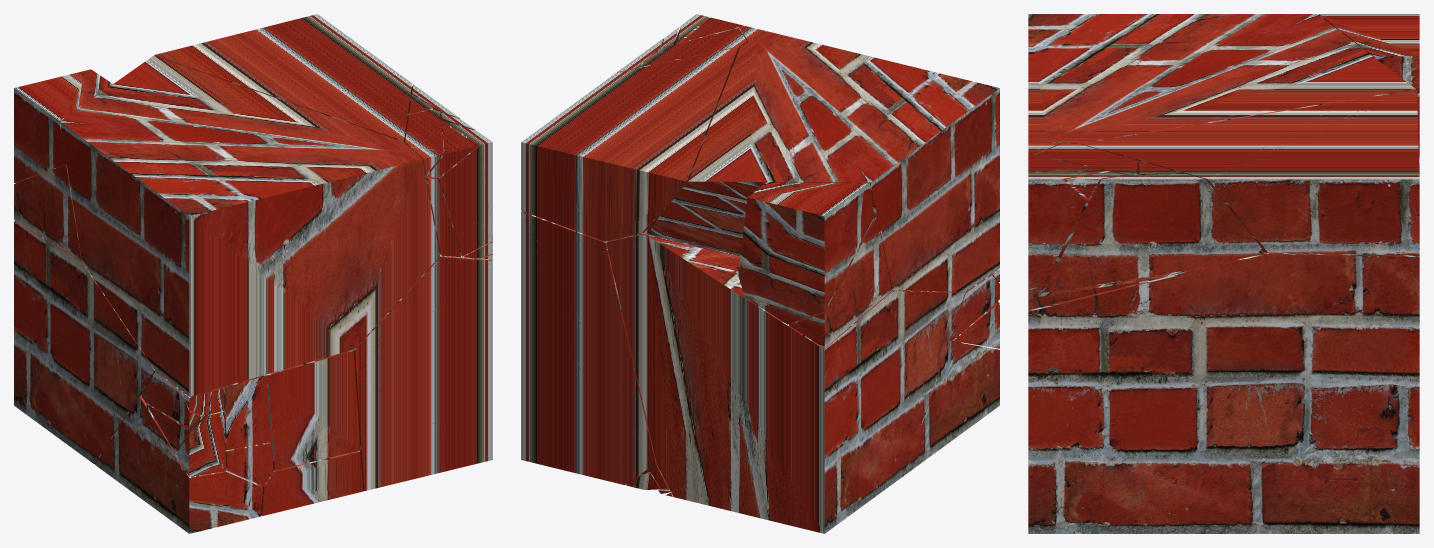
Rendered from Wall Cracked.fbx.
3 views of the same model, side by side, from view 1: azimuth 30°, elevation 25°; view 2: azimuth 150°, elevation 25°; view 3: azimuth 270°, elevation 25° (orthographic). The views are drawn at different scales.
Parts seen in each view (by area): view 1: Wall_cell.002, Wall_cell.001, Wall_cell.006, Wall_cell.005, Wall_cell_cell.005, Wall_cell_cell, Wall_cell.004_cell.001, Wall_cell.003_cell.004_cell.001, Wall_cell_cell.003, Wall_cell.004_cell, Wall_cell_cell.001_cell.005, Wall_cell_cell.002_cell (+7 smaller); view 2: Wall_cell.006, Wall_cell.002, Wall_cell.001, Wall_cell.005, Wall_cell.004_cell.001, Wall_cell_cell.005, Wall_cell.004_cell, Wall_cell_cell.002_cell.002, Wall_cell.003_cell.003_cell.005, Wall_cell_cell.002_cell.004, Wall_cell.003_cell.004_cell.003; view 3: Wall_cell.001, Wall_cell.002, Wall_cell.005, Wall_cell.003_cell, Wall_cell.003_cell.004_cell.001, Wall_cell.004_cell.001, Wall_cell.003_cell.003_cell.005, Wall_cell.003_cell.002, Wall_cell.003_cell.004_cell.003, Wall_cell.003_cell.004_cell.
Part boxes in pixels (bbox=[...]): Wall_cell.002: bbox=[60, 55, 439, 396]; Wall_cell.001: bbox=[352, 254, 492, 491]; Wall_cell.006: bbox=[14, 221, 156, 464]; Wall_cell.005: bbox=[154, 14, 412, 141]; Wall_cell_cell.005: bbox=[95, 395, 262, 533]; Wall_cell_cell: bbox=[265, 350, 360, 470]; Wall_cell.004_cell.001: bbox=[14, 69, 112, 183]; Wall_cell.003_cell.004_cell.001: bbox=[437, 120, 492, 256]; Wall_cell_cell.003: bbox=[261, 450, 363, 515]; Wall_cell.004_cell: bbox=[14, 165, 81, 260]; Wall_cell_cell.001_cell.005: bbox=[223, 375, 271, 449]; Wall_cell_cell.002_cell: bbox=[176, 411, 226, 476]; Wall_cell.006: bbox=[606, 232, 964, 533]; Wall_cell.002: bbox=[642, 31, 999, 291]; Wall_cell.001: bbox=[521, 211, 656, 484]; Wall_cell.005: bbox=[521, 47, 737, 241]; Wall_cell.004_cell.001: bbox=[738, 182, 874, 324]; Wall_cell_cell.005: bbox=[905, 341, 999, 474]; Wall_cell.004_cell: bbox=[789, 217, 891, 348]; Wall_cell_cell.002_cell.002: bbox=[949, 275, 999, 340]; Wall_cell.003_cell.003_cell.005: bbox=[657, 28, 747, 58]; Wall_cell_cell.002_cell.004: bbox=[950, 301, 999, 345]; Wall_cell.003_cell.004_cell.003: bbox=[681, 17, 744, 42]; Wall_cell.001: bbox=[1028, 251, 1419, 533]; Wall_cell.002: bbox=[1028, 14, 1415, 144]; Wall_cell.005: bbox=[1081, 89, 1419, 255]; Wall_cell.003_cell: bbox=[1043, 173, 1261, 292]; Wall_cell.003_cell.004_cell.001: bbox=[1028, 171, 1108, 289]; Wall_cell.004_cell.001: bbox=[1318, 14, 1419, 124]; Wall_cell.003_cell.003_cell.005: bbox=[1036, 143, 1137, 175]; Wall_cell.003_cell.002: bbox=[1028, 272, 1181, 309]; Wall_cell.003_cell.004_cell.003: bbox=[1028, 153, 1100, 172]; Wall_cell.003_cell.004_cell: bbox=[1066, 171, 1125, 197].
Bounding box in the file's own units: 55 × 55 × 55.
